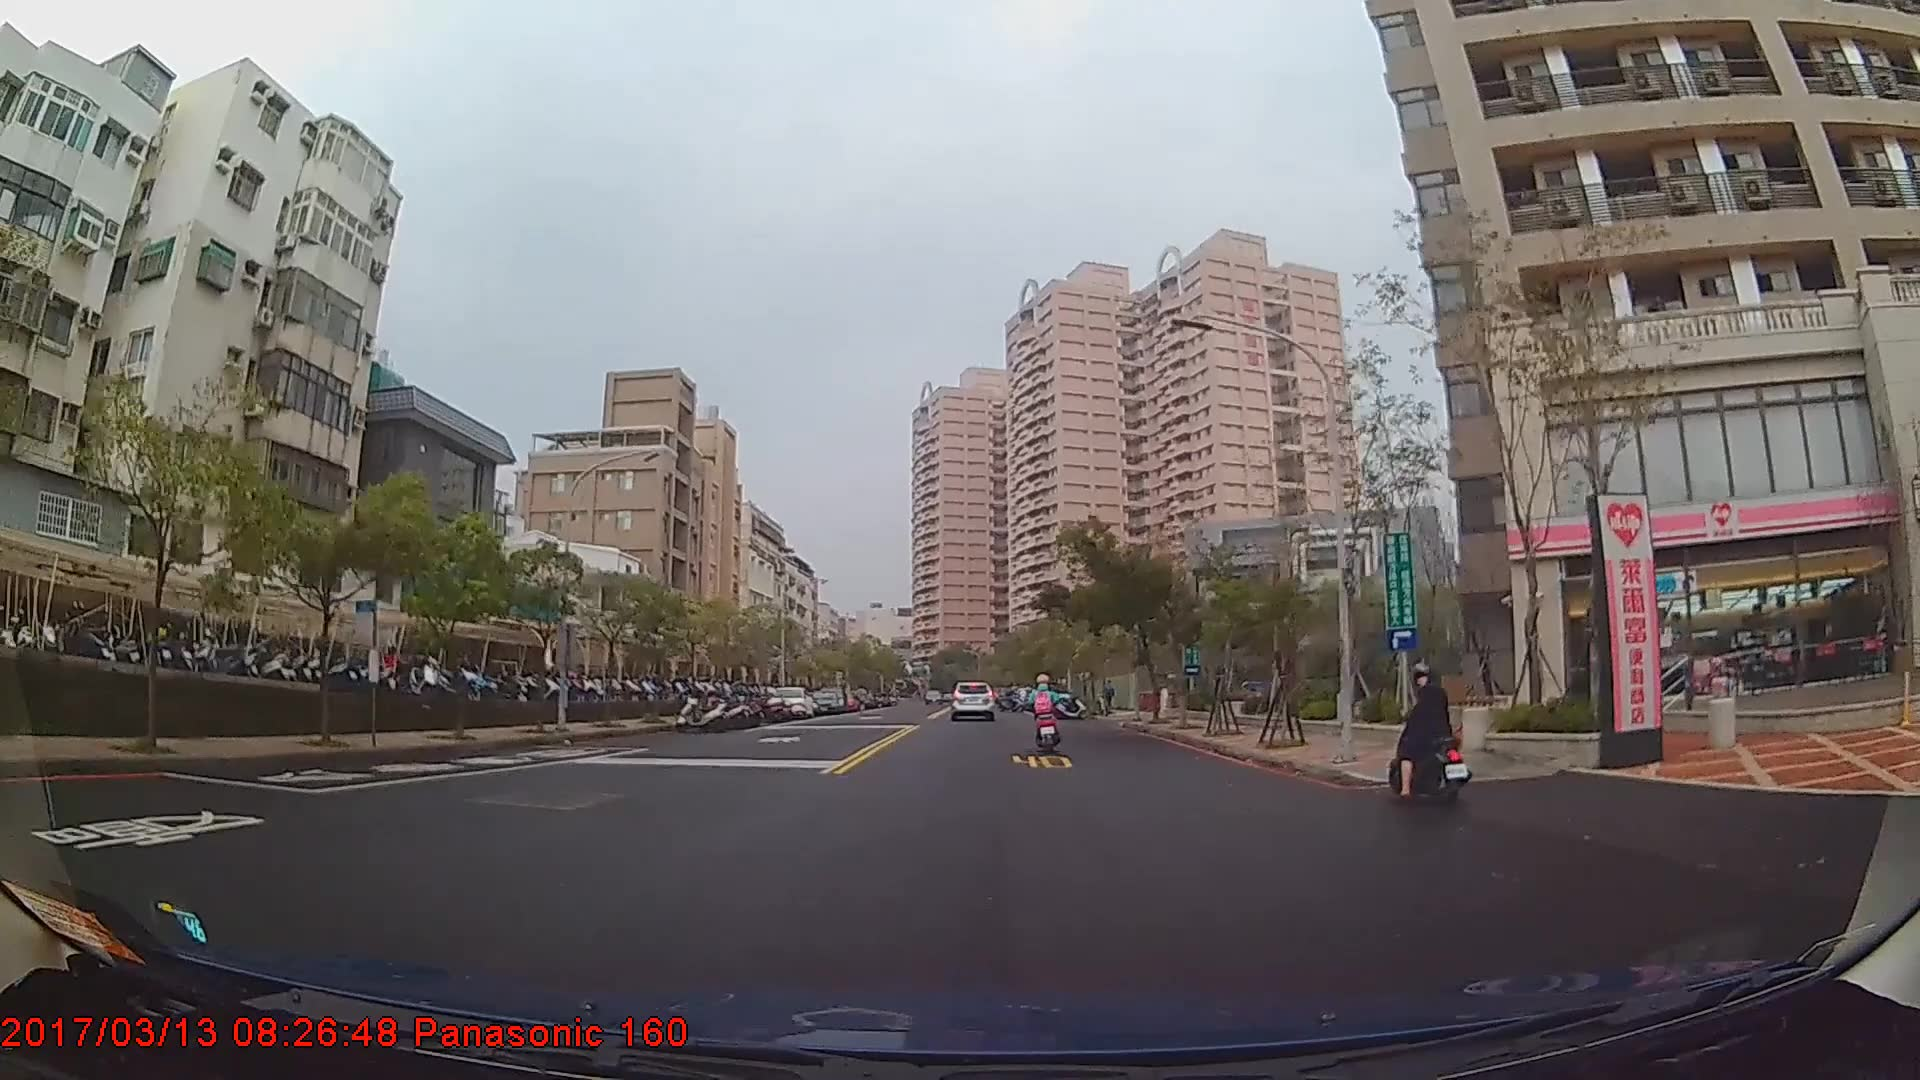rider: (1385, 669, 1480, 816), (1027, 676, 1064, 754)
vehicle: (947, 679, 998, 718), (765, 686, 814, 719)
